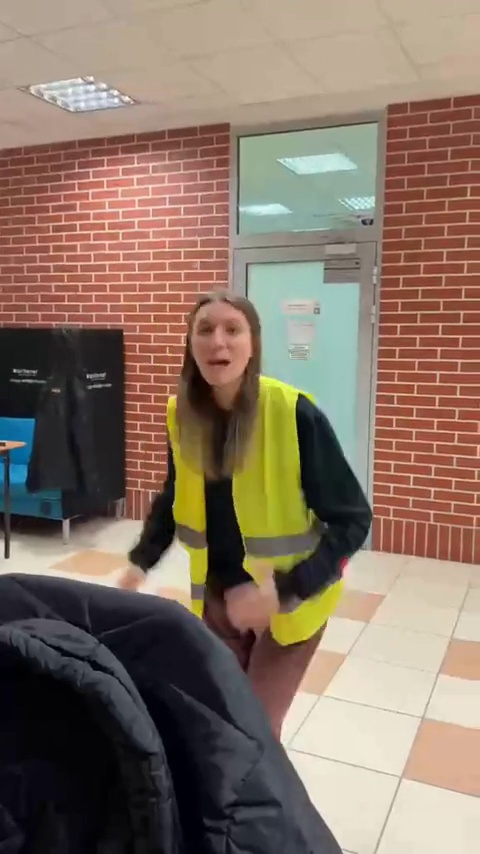vest: (163, 287, 354, 694)
